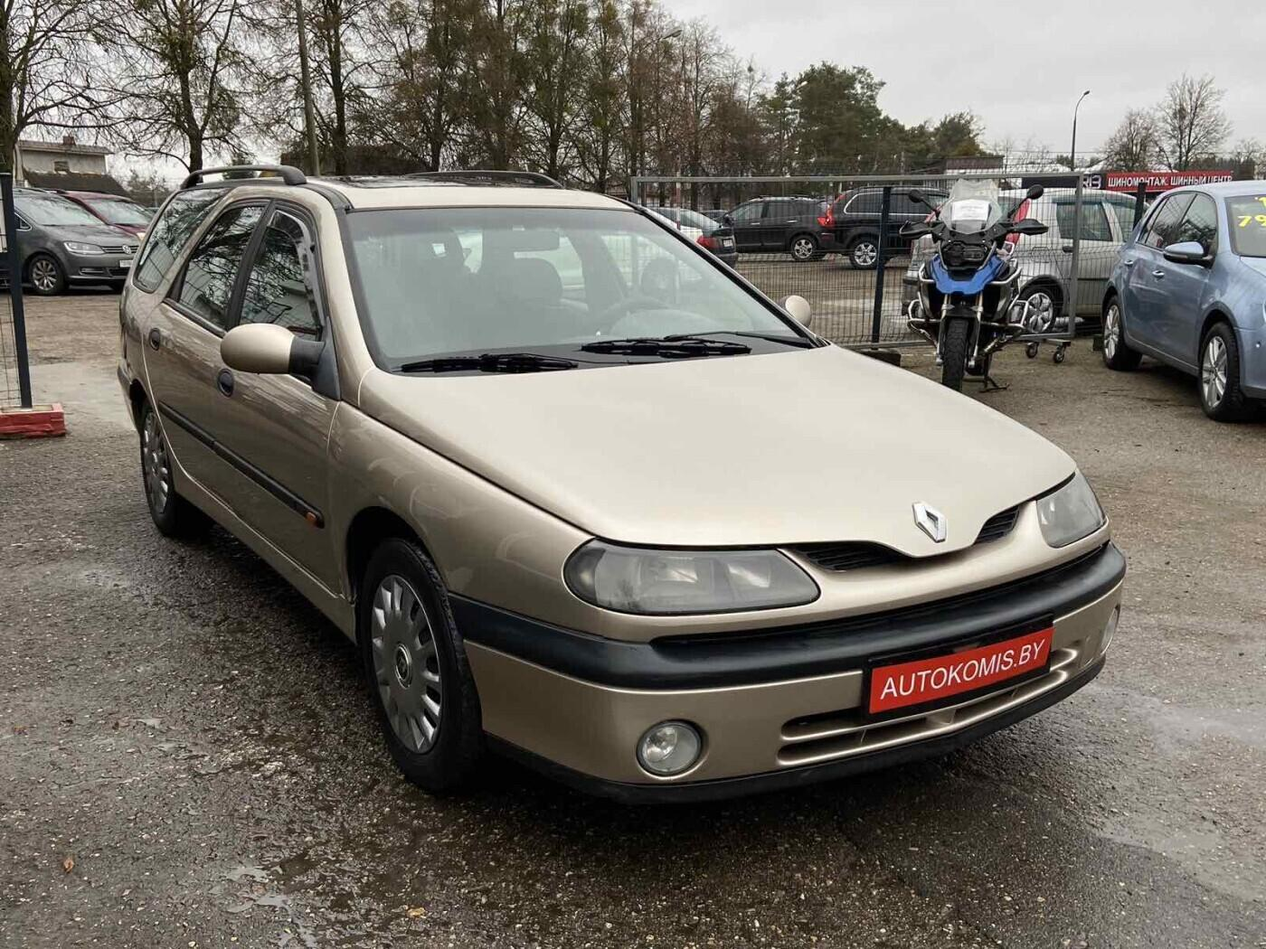Laguna_1998-2001: (112, 158, 1119, 842)
